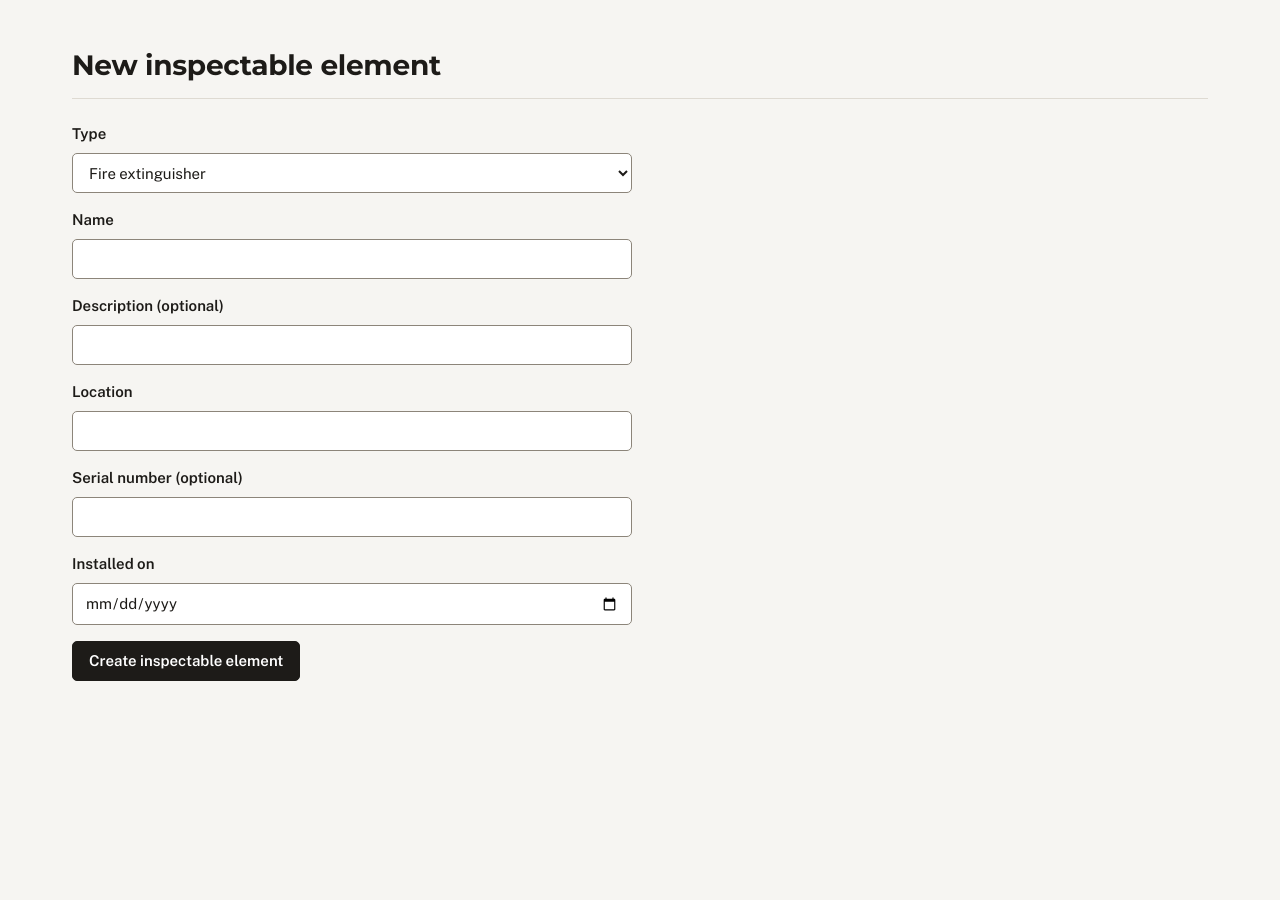
Test: InspectableElementCreatePage › blocks submission client-side and shows a validation error when a required field is empty
In the field with test id "inspectable-element-create-location": (352, 431) [72, 411, 632, 451], type "Ground-floor corridor"
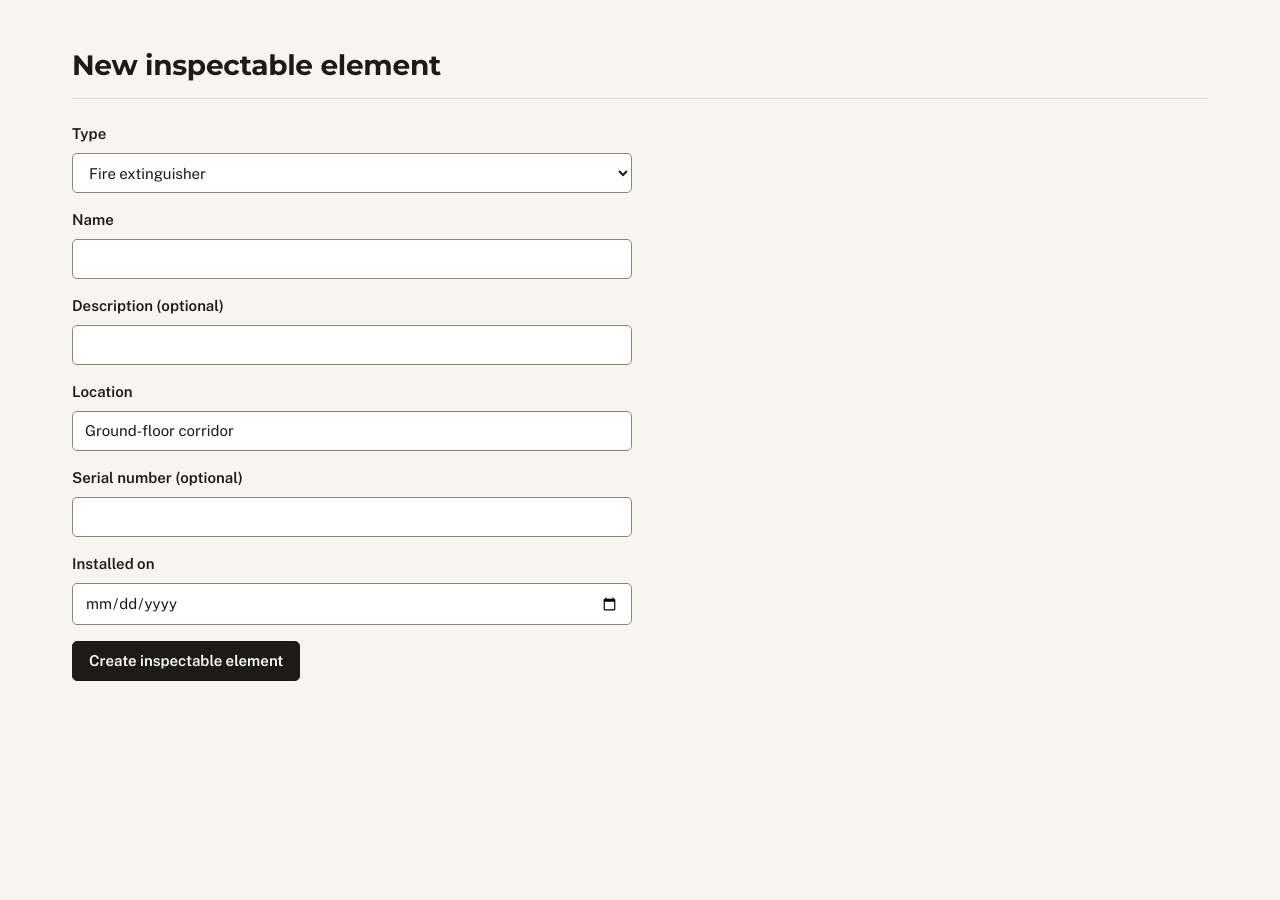
In the date field with test id "inspectable-element-create-installed-at": (352, 604) [72, 583, 632, 625], type "2026-03-15"
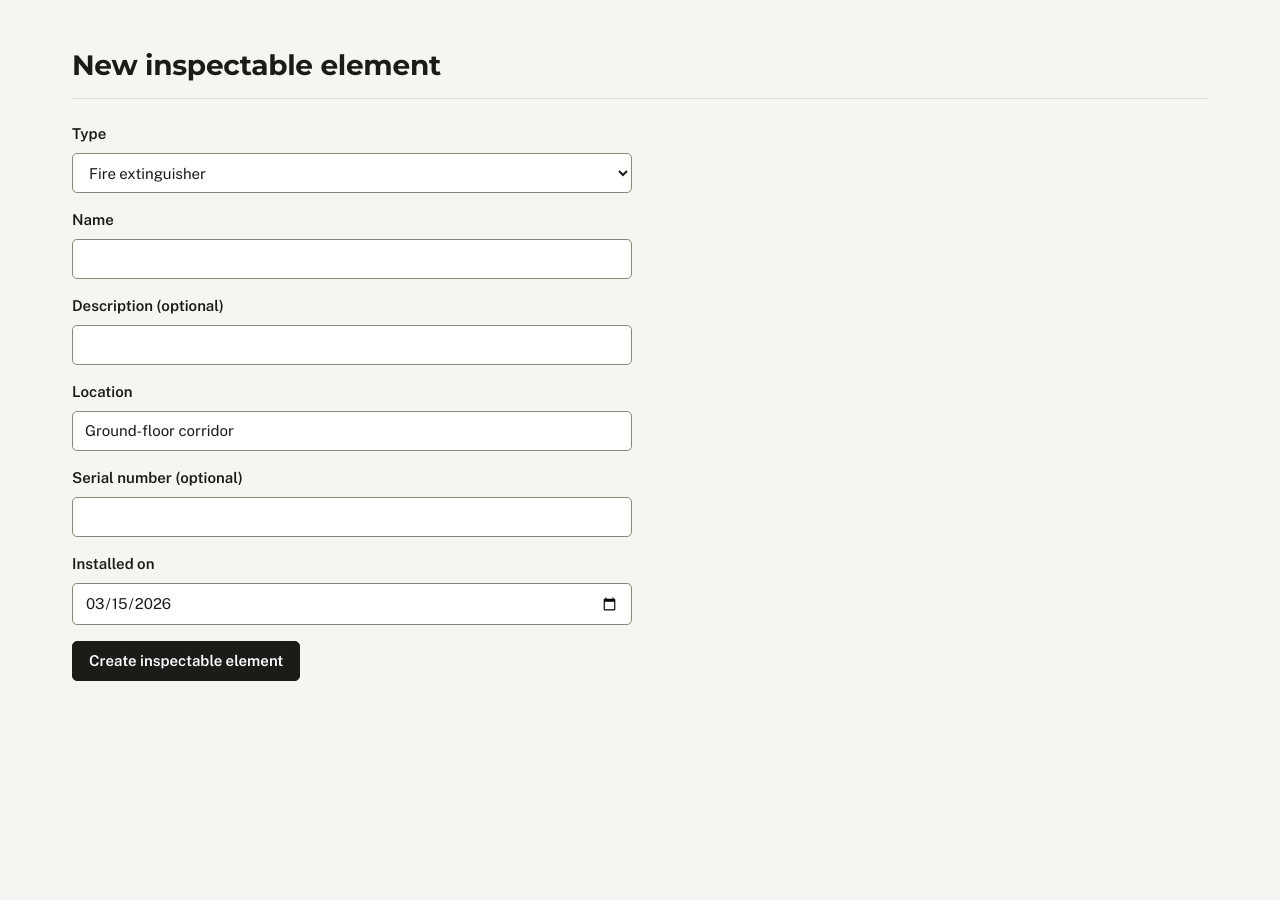
Click the button with test id "inspectable-element-create-submit": (186, 661) [72, 641, 300, 681]
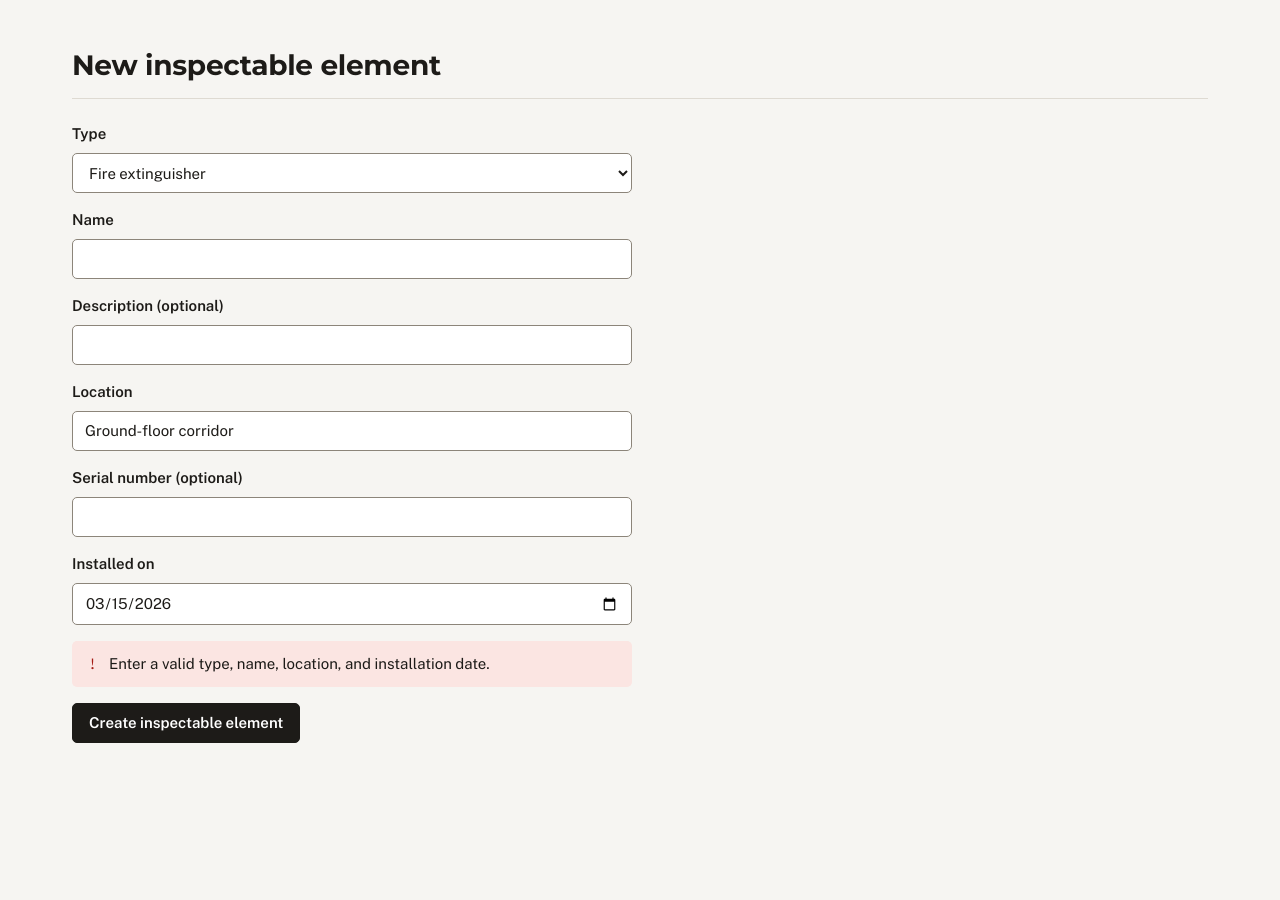
Check: the message "! Enter a valid type, name, location, and installation date." is shown, box [72, 641, 632, 687]
